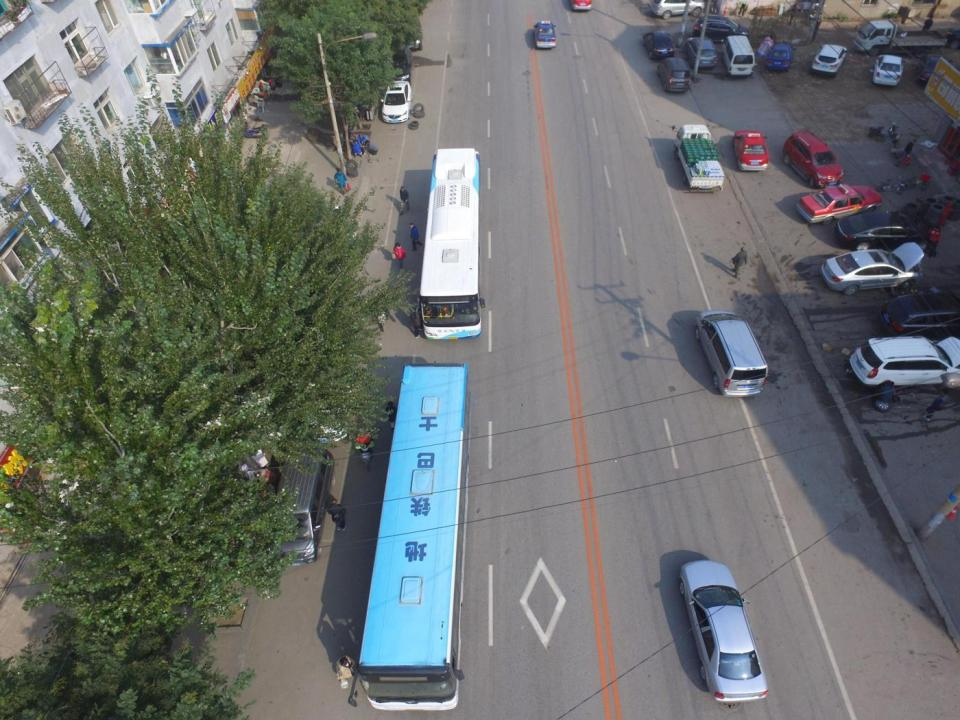bus: (355, 362, 473, 713), (416, 148, 486, 340)
car: (678, 559, 769, 701), (848, 336, 960, 393), (821, 241, 923, 296), (834, 211, 940, 253), (878, 290, 960, 344), (796, 182, 884, 226), (783, 130, 844, 188), (694, 15, 750, 45), (732, 130, 770, 172), (380, 80, 412, 124), (810, 43, 847, 78), (683, 36, 719, 71), (871, 53, 906, 87), (916, 53, 953, 85), (385, 44, 412, 87), (650, 0, 706, 20), (642, 31, 675, 61), (766, 42, 795, 72), (533, 21, 557, 49)
truck: (853, 18, 948, 57), (671, 124, 724, 191)
van: (267, 445, 335, 567), (694, 309, 769, 397), (720, 34, 756, 78), (656, 55, 692, 94)
